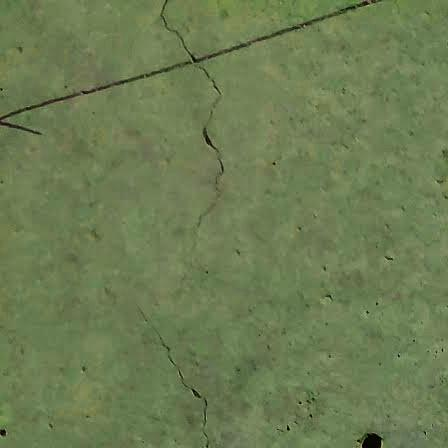crack: (158, 0, 227, 255), (113, 302, 232, 448)
